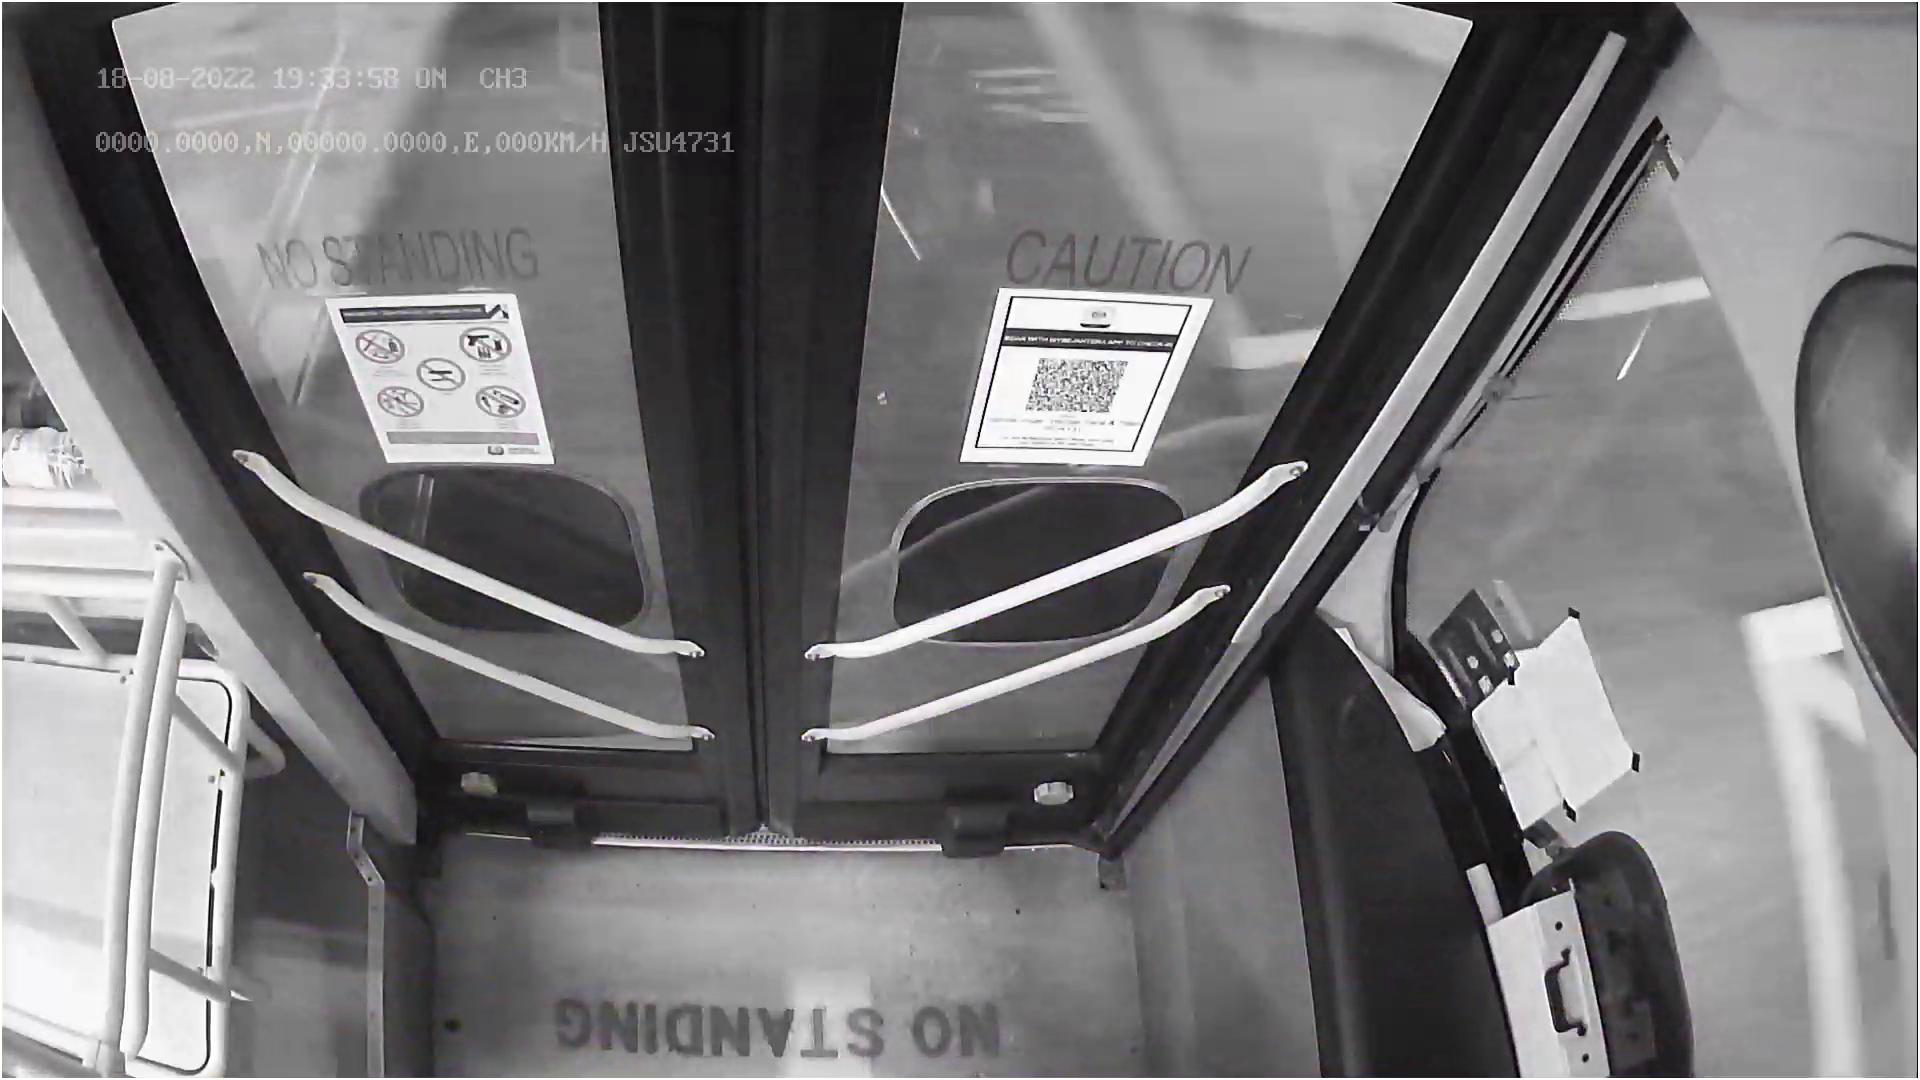close: (131, 0, 1445, 164)
